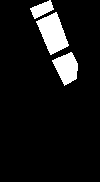parkingspot: (36, 12, 68, 54), (52, 52, 77, 85), (30, 0, 53, 18)
